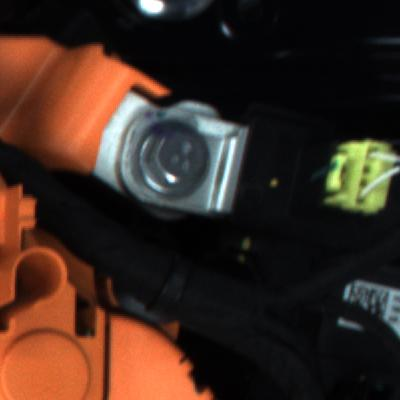nut_b: (131, 121, 223, 209)
